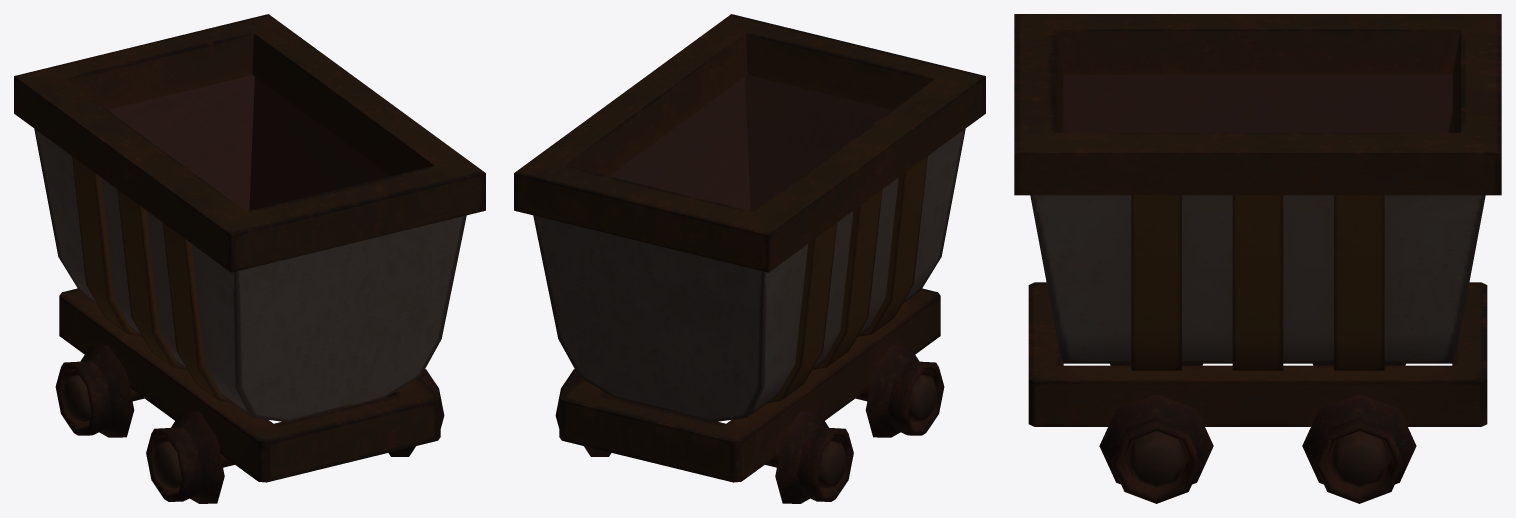
The model's file is Minecart V1.fbx.
The picture shows the model from 3 angles, left to right: view 1: azimuth 30°, elevation 25°; view 2: azimuth 150°, elevation 25°; view 3: azimuth 270°, elevation 25°; orthographic projection. The views are drawn at different scales.
Parts seen in each view (by area): view 1: Body_Model_1, Lower_Rim, Decortive_metal, Wheel_outer_1 (×3), Wheel_center_1 (×2); view 2: Body_Model_1, Lower_Rim, Decortive_metal, Wheel_outer_1 (×3), Wheel_center_1 (×2); view 3: Body_Model_1, Lower_Rim, Decortive_metal, Wheel_outer_1 (×2), Wheel_center_1 (×2).
Part boxes in pixels (box(x1,y1,x2,y2)): Body_Model_1: box(14, 14, 485, 421); Lower_Rim: box(59, 288, 440, 482); Decortive_metal: box(72, 156, 232, 403); Wheel_outer_1 (×3): box(55, 345, 444, 503); Wheel_center_1 (×2): box(62, 374, 182, 488); Body_Model_1: box(514, 14, 985, 421); Lower_Rim: box(559, 288, 940, 482); Decortive_metal: box(767, 156, 927, 403); Wheel_outer_1 (×3): box(555, 345, 944, 503); Wheel_center_1 (×2): box(817, 374, 937, 488); Body_Model_1: box(1014, 14, 1501, 363); Lower_Rim: box(1028, 282, 1487, 426); Decortive_metal: box(1131, 195, 1384, 370); Wheel_outer_1 (×2): box(1099, 394, 1416, 503); Wheel_center_1 (×2): box(1128, 431, 1387, 488).
Bounding box in the file's own units: 1.33 × 1.52 × 1.85.
Materials: 1 (1 with a texture image).
